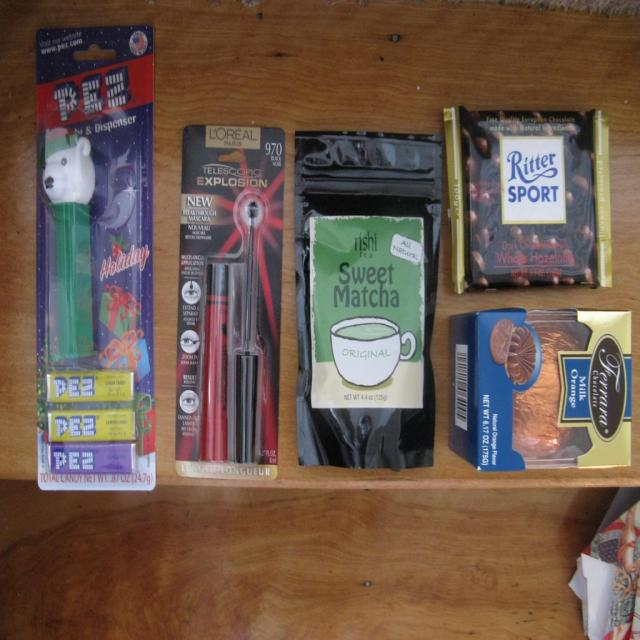rittersport: (496, 132, 572, 228)
